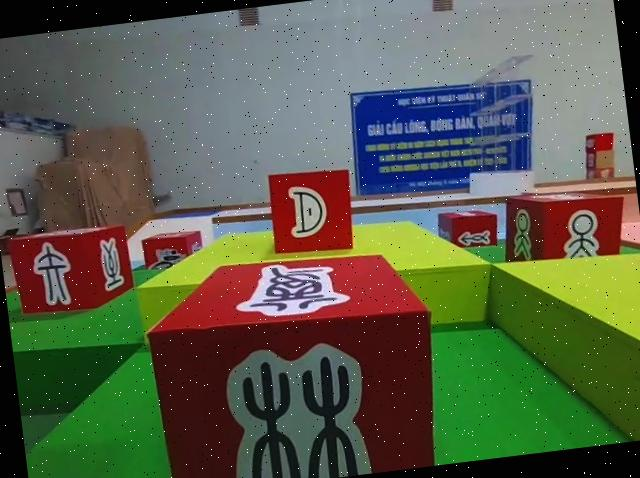R1: (140, 227, 205, 276)
R2 Fake: (137, 239, 446, 478), (7, 222, 135, 319)
R2 Real: (496, 182, 629, 278), (264, 162, 359, 261), (435, 204, 500, 259)
